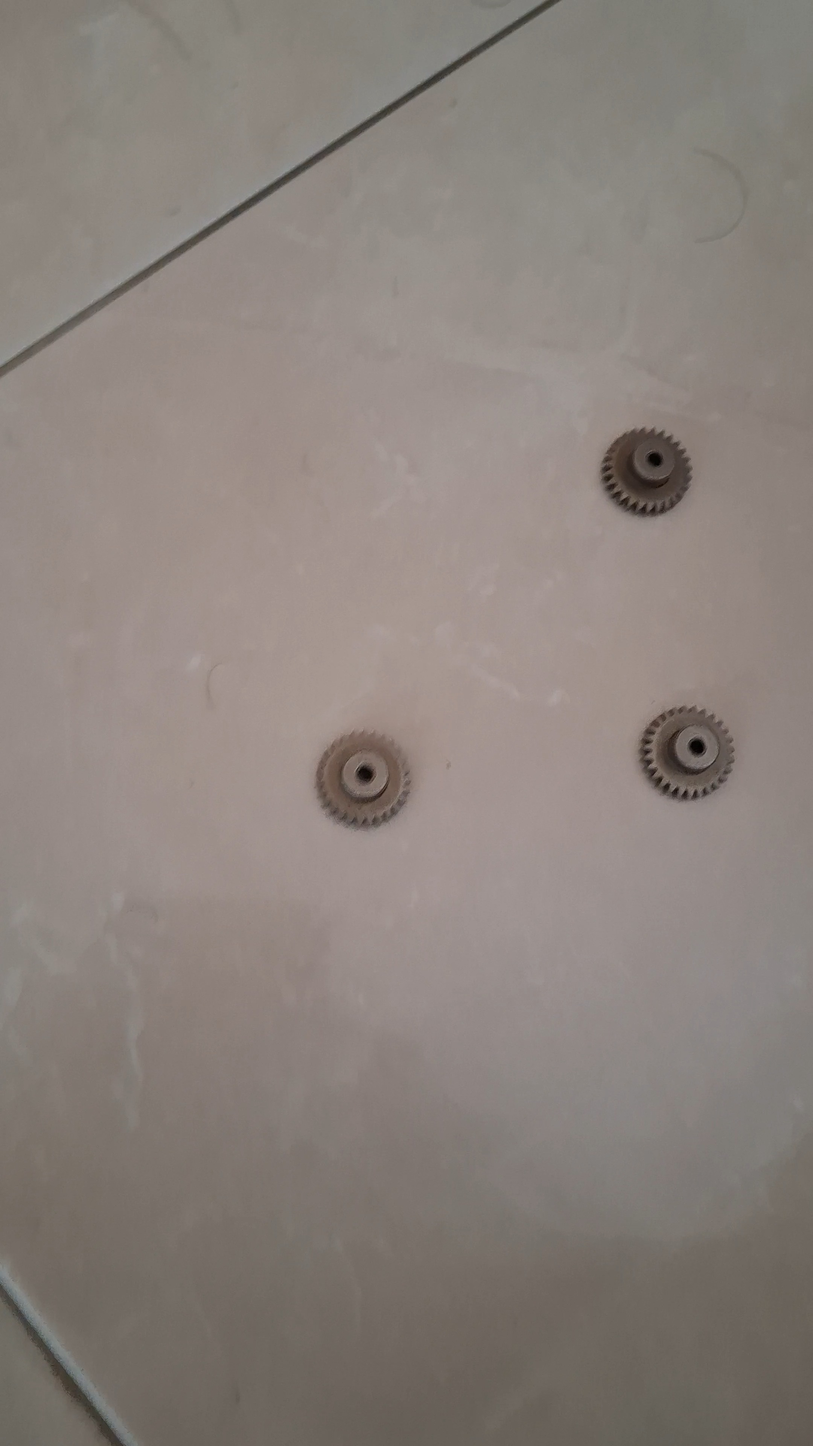spur gear: (316, 732, 410, 827), (640, 707, 734, 799), (601, 430, 691, 515)
